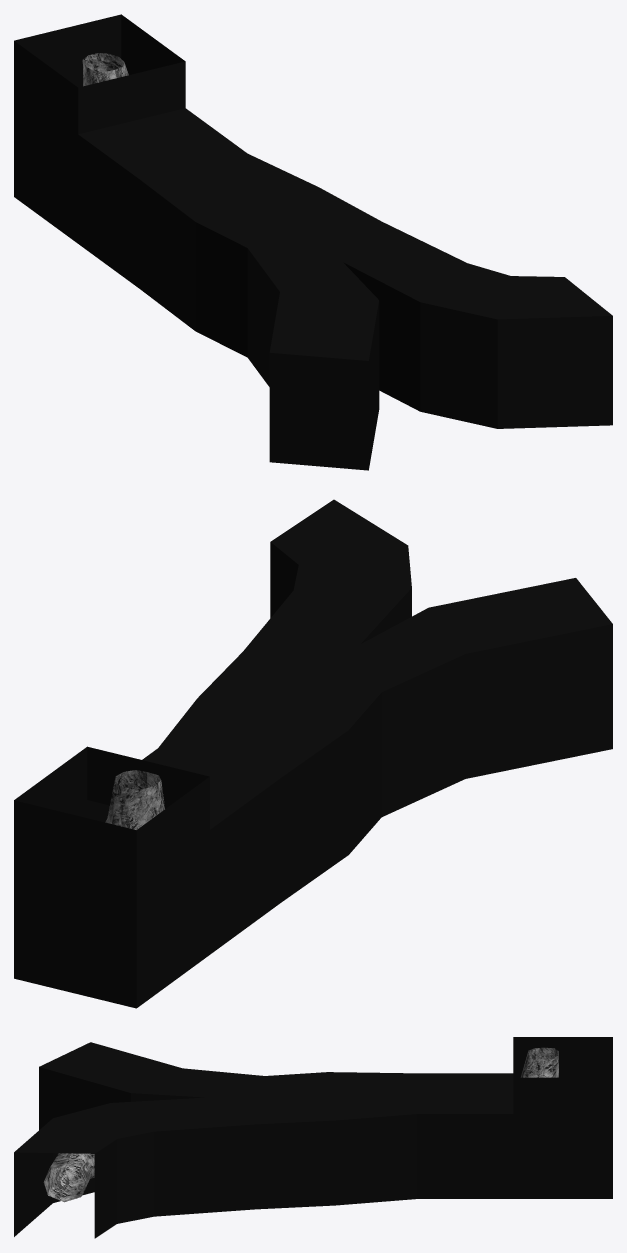
File: demoMap.obj
3 renders of one model, top to bottom at view 1: azimuth 30°, elevation 25°; view 2: azimuth 150°, elevation 25°; view 3: azimuth 270°, elevation 25°, orthographic. The views are drawn at different scales.
Visible parts, largest first — view 1: Plane; view 2: Plane; view 3: Plane.
Boxes of the visible parts, x1,y1,x2,y2 form: Plane: [14, 14, 612, 470]; Plane: [14, 499, 612, 1008]; Plane: [14, 1037, 612, 1238].
Size of the model in its own units: 145 by 73.35 by 326.
